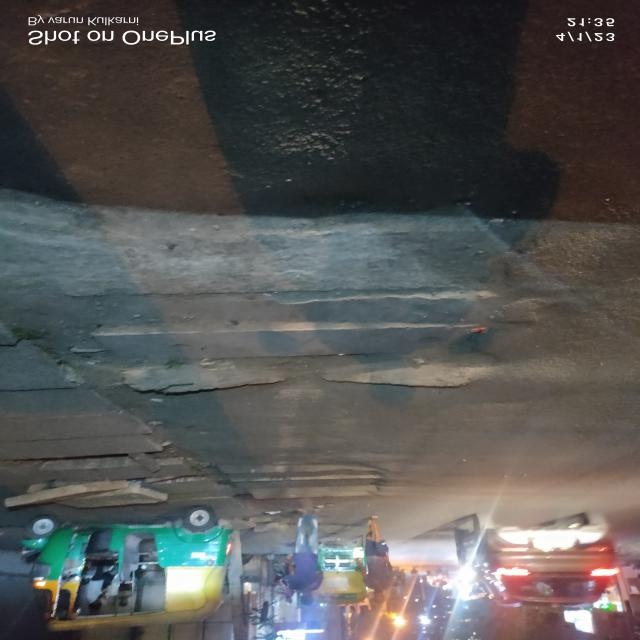potholes: (93, 342, 499, 407)
